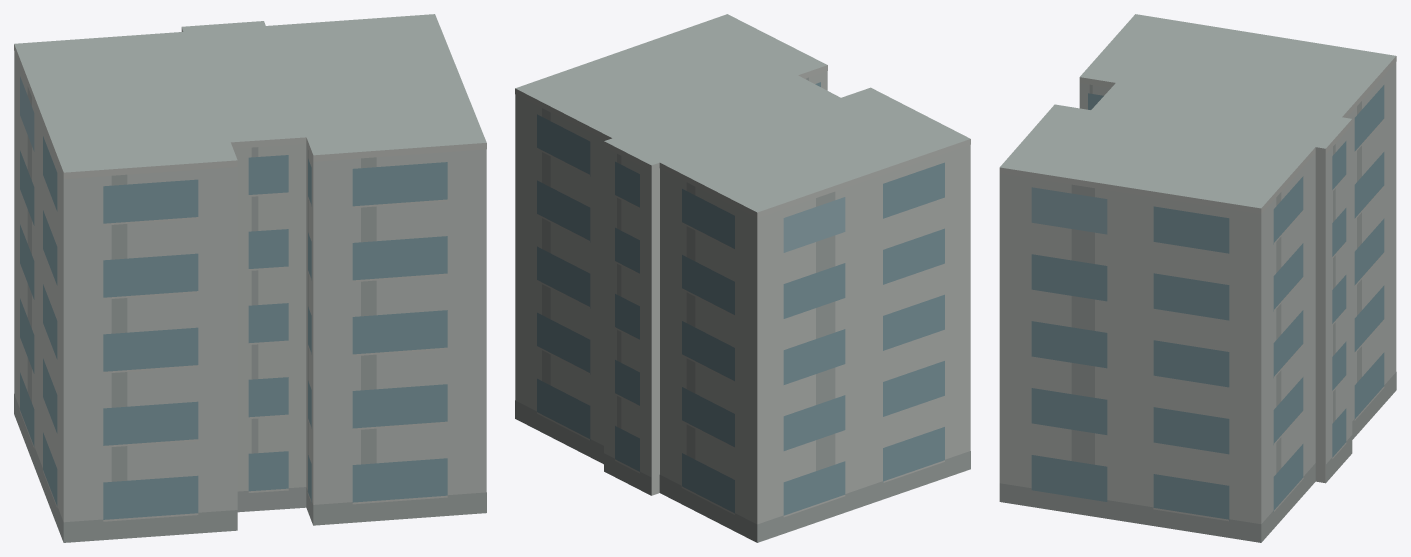
Rendered from survey-upis-32901817.glb.
The picture shows the model from 3 angles, left to right: view 1: azimuth 30°, elevation 25°; view 2: azimuth 150°, elevation 25°; view 3: azimuth 270°, elevation 25°; orthographic projection. The views are drawn at different scales.
Parts seen in each view (by area): view 1: survey-upis-32901817.tmp; view 2: survey-upis-32901817.tmp; view 3: survey-upis-32901817.tmp.
Boxes of the visible parts, left/top/right/bottom form: survey-upis-32901817.tmp: left=14, top=14, right=486, bottom=542; survey-upis-32901817.tmp: left=515, top=14, right=970, bottom=542; survey-upis-32901817.tmp: left=999, top=14, right=1396, bottom=542.
Bounding box in the file's own units: 17.21 × 13.8 × 14.85.
